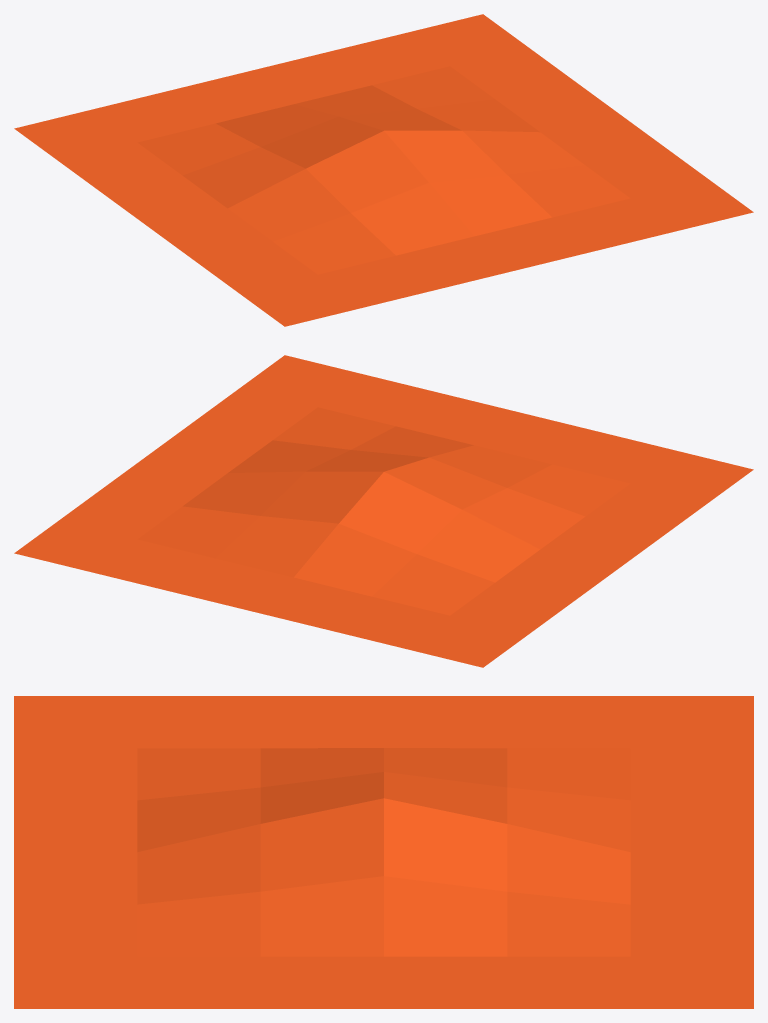
File: Floor.obj
3 renders of one model, top to bottom at view 1: azimuth 30°, elevation 25°; view 2: azimuth 150°, elevation 25°; view 3: azimuth 270°, elevation 25°, orthographic. The views are drawn at different scales.
Parts seen in each view (by area): view 1: Floor; view 2: Floor; view 3: Floor.
Boxes of the visible parts, box(x1,y1,x2,y2) form: Floor: box(14, 14, 753, 326); Floor: box(14, 355, 753, 667); Floor: box(14, 696, 753, 1008).
Bounding box in the file's own units: 10 × 0.8087 × 10.
